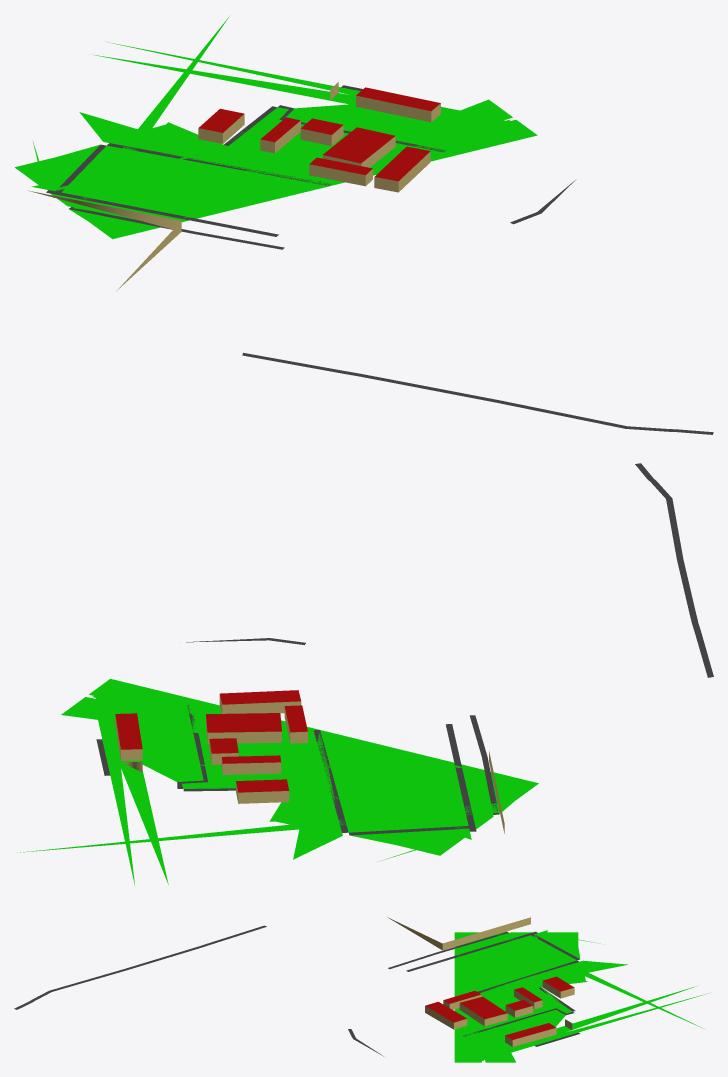
3 views of the same model, one above another, from view 1: azimuth 30°, elevation 25°; view 2: azimuth 150°, elevation 25°; view 3: azimuth 270°, elevation 25° (orthographic). The views are drawn at different scales.
Bounding box in the file's own units: 337 × 7.5 × 680.
